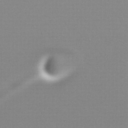normal: (1, 73, 39, 105)
